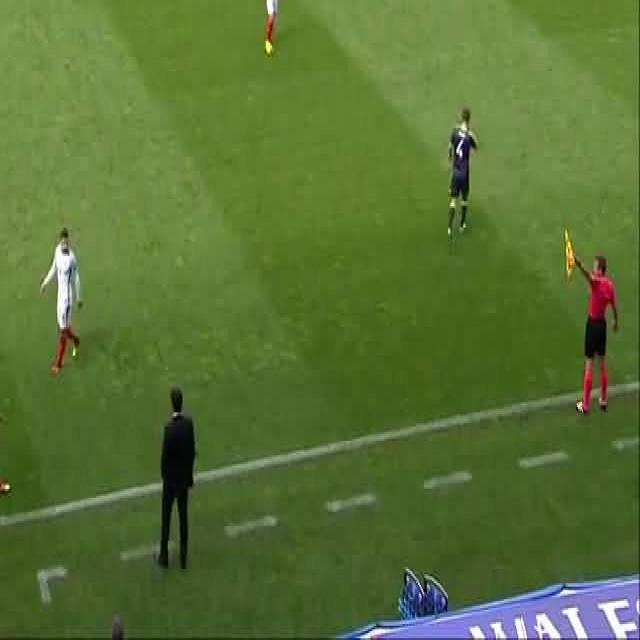player-white: (564, 227, 618, 415), (41, 226, 83, 380), (448, 107, 476, 237), (0, 340, 11, 510), (259, 0, 285, 58)
